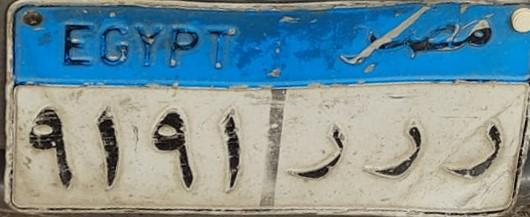1: (85, 106, 129, 188), (214, 98, 249, 199)
9: (24, 99, 81, 195), (148, 104, 198, 196)
raa: (283, 114, 354, 192), (443, 112, 506, 196), (366, 115, 430, 191)
